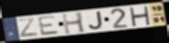2: (110, 8, 129, 29)
E: (36, 15, 61, 37)
H: (61, 11, 88, 35), (129, 5, 152, 27)
J: (88, 11, 104, 31)
Z: (16, 17, 39, 38)
